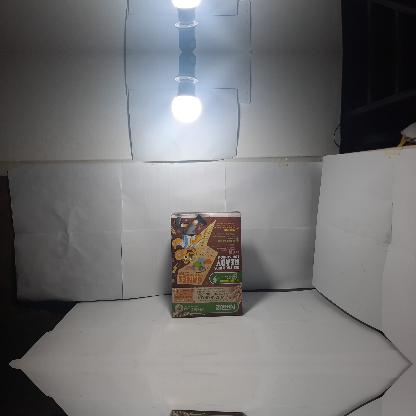Koko-Krunch: (170, 210, 242, 317)
